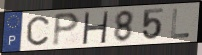5: (141, 9, 166, 42)
8: (113, 9, 136, 44)
C: (26, 15, 51, 47)
H: (81, 11, 111, 44)
L: (170, 8, 191, 39)
P: (51, 11, 82, 48)
